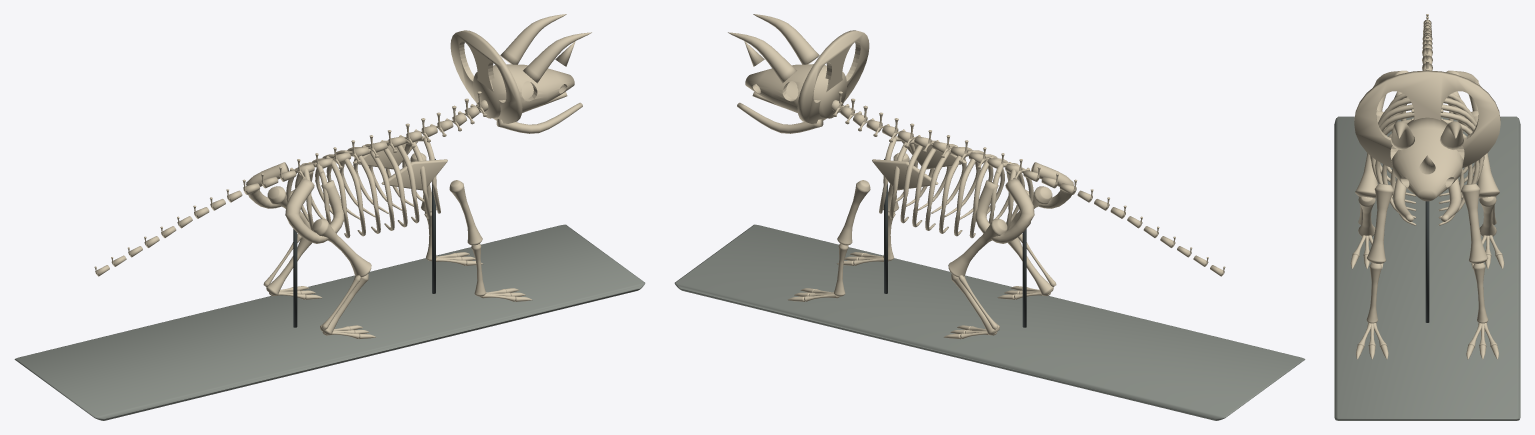
Rendered from HornedDinosaurSkeleton.glb.
3 renders of one model, left to right at view 1: azimuth 30°, elevation 25°; view 2: azimuth 150°, elevation 25°; view 3: azimuth 270°, elevation 25°, orthographic. The views are drawn at different scales.
Visible parts, largest first — view 1: Low chamfered display slab, Broad scalloped cranial frill, Fenestrated dinosaur cranium, Open pelvic girdle, Femur with shaped condyles, Curved brow horn.001, Curved brow horn, Shaped scapula, Open pelvic girdle.001, Curved lower jaw, Humerus; view 2: Low chamfered display slab, Broad scalloped cranial frill, Fenestrated dinosaur cranium, Open pelvic girdle.001, Femur with shaped condyles.001, Curved brow horn, Curved brow horn.001, Shaped scapula.001, Open pelvic girdle, Curved lower jaw.001, Humerus.001; view 3: Low chamfered display slab, Broad scalloped cranial frill, Fenestrated dinosaur cranium, Humerus, Humerus.001, Femur with shaped condyles.001, Femur with shaped condyles, Steel conservation support.001, Curved brow horn, Curved brow horn.001, Radius, Radius.001 (+15 smaller).
Part boxes in pixels (x1,y1,x2,y2): Low chamfered display slab: (14, 224, 645, 420); Broad scalloped cranial frill: (450, 30, 522, 123); Fenestrated dinosaur cranium: (473, 64, 574, 118); Open pelvic girdle: (285, 179, 344, 243); Femur with shaped condyles: (312, 219, 371, 277); Curved brow horn.001: (500, 14, 566, 64); Curved brow horn: (523, 32, 591, 83); Shaped scapula: (381, 159, 447, 190); Open pelvic girdle.001: (246, 162, 313, 208); Curved lower jaw: (496, 102, 582, 133); Humerus: (449, 180, 482, 245); Low chamfered display slab: (674, 224, 1305, 420); Broad scalloped cranial frill: (797, 30, 869, 123); Fenestrated dinosaur cranium: (745, 64, 846, 118); Open pelvic girdle.001: (975, 179, 1034, 243); Femur with shaped condyles.001: (948, 219, 1007, 277); Curved brow horn: (753, 14, 819, 64); Curved brow horn.001: (728, 32, 796, 83); Shaped scapula.001: (872, 159, 938, 190); Open pelvic girdle: (1006, 162, 1073, 208); Curved lower jaw.001: (737, 102, 823, 133); Humerus.001: (837, 180, 870, 245); Low chamfered display slab: (1334, 116, 1520, 420); Broad scalloped cranial frill: (1354, 70, 1500, 167); Fenestrated dinosaur cranium: (1390, 117, 1464, 201); Humerus: (1367, 183, 1393, 263); Humerus.001: (1461, 183, 1487, 263); Femur with shaped condyles.001: (1471, 110, 1499, 198); Femur with shaped condyles: (1355, 110, 1383, 198); Steel conservation support.001: (1425, 201, 1429, 322); Curved brow horn: (1391, 121, 1414, 149); Curved brow horn.001: (1440, 121, 1463, 149); Radius: (1366, 262, 1381, 323); Radius.001: (1473, 262, 1488, 323).
Size of the model in its own units: 5.57 by 2.44 by 1.45.
